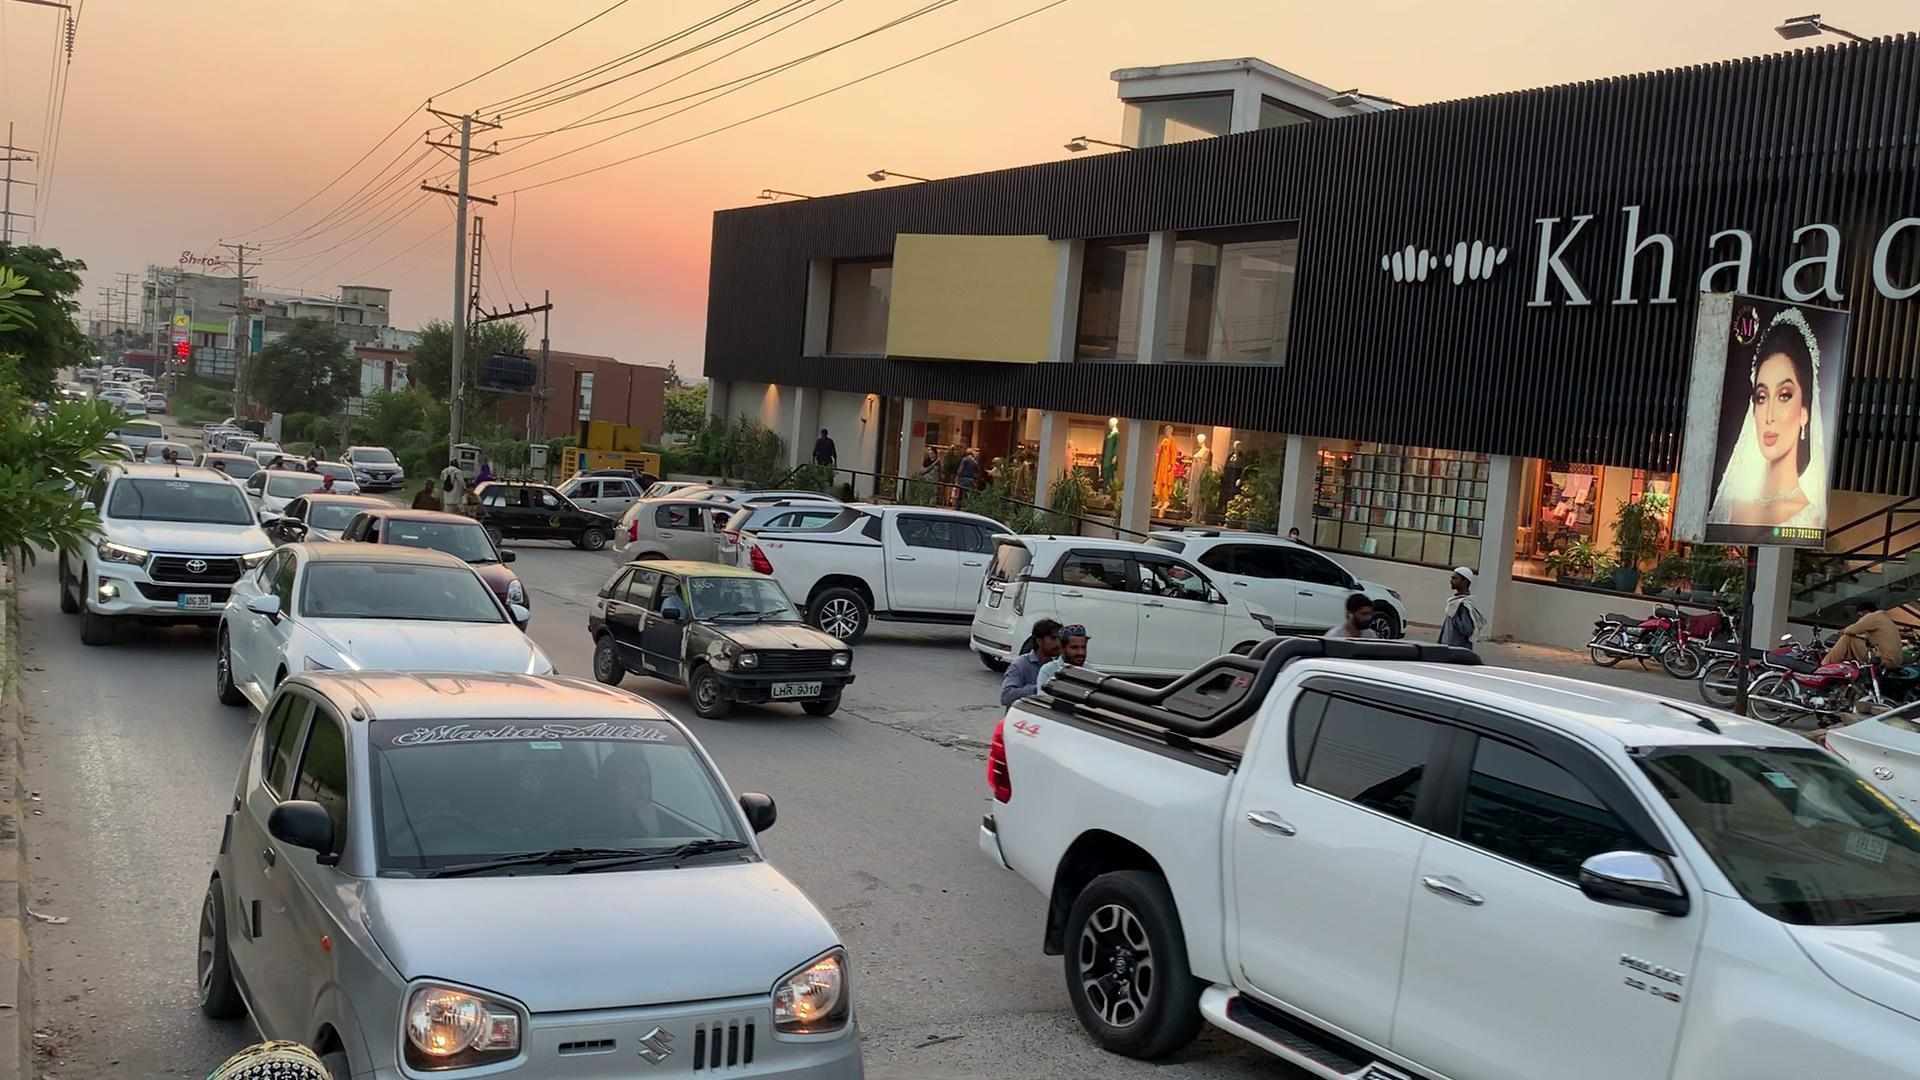windshield: (361, 700, 774, 907), (293, 555, 524, 630)
